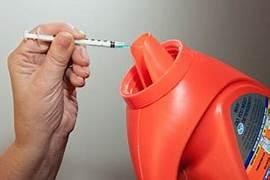Syringe: (75, 39, 129, 47)
